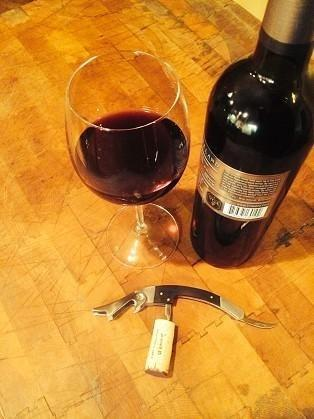bottle-glass: (187, 0, 314, 269)
glass-wine: (62, 46, 195, 270)
